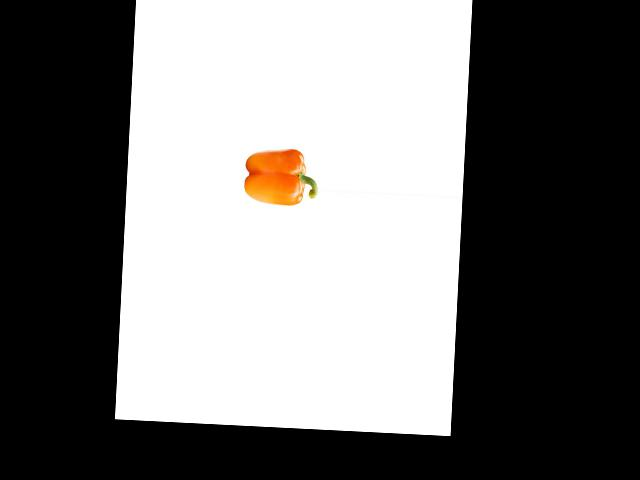bell_pepper: (242, 141, 319, 213)
